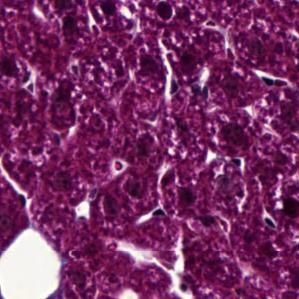inflammation: (154, 163, 197, 214), (0, 53, 40, 100), (181, 57, 214, 94), (149, 0, 178, 26)
